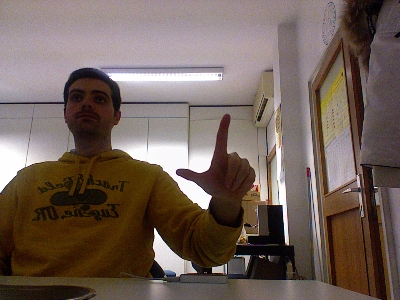枪: (174, 112, 256, 201)
